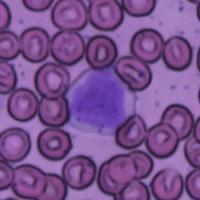M: (69, 68, 132, 132)
